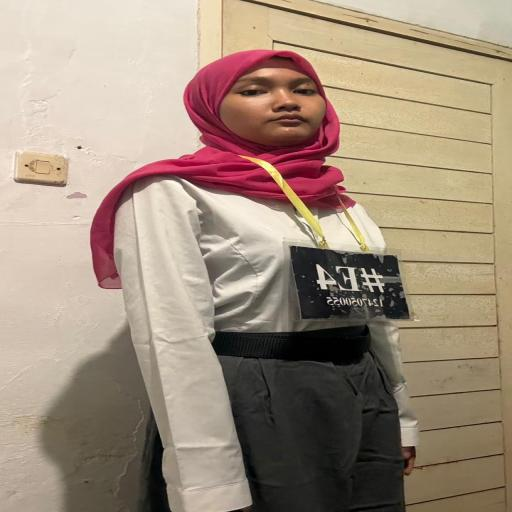kemeja_benar: (94, 176, 412, 338)
kerudung_benar: (152, 44, 373, 208)
nametag_ada: (272, 178, 425, 331)
rok_salah: (163, 356, 408, 512)
sabuk_ada: (190, 329, 391, 361)
